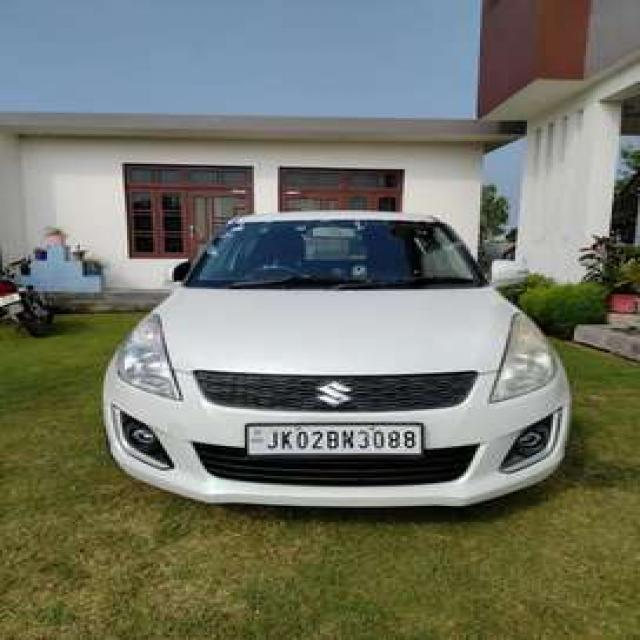Plate: (246, 426, 420, 452)
